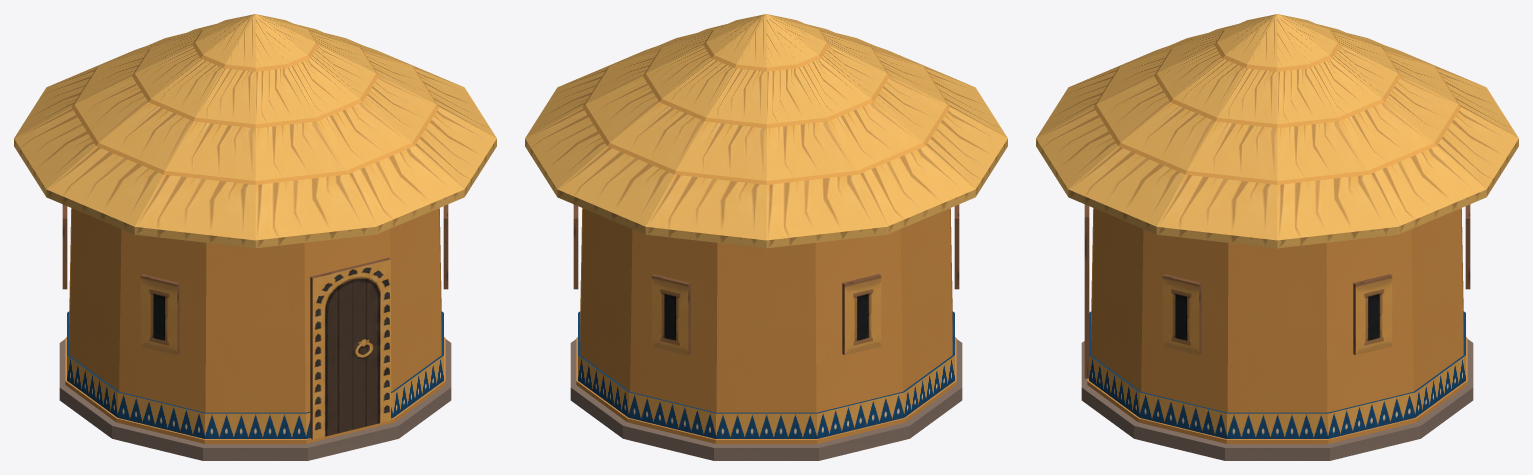
File: rc_village_hut_round_1f.glb
3 views of the same model, side by side, from view 1: azimuth 30°, elevation 25°; view 2: azimuth 150°, elevation 25°; view 3: azimuth 270°, elevation 25° (orthographic).
Visible parts, largest first — view 1: SM_RC_MudHut_Round_1F; view 2: SM_RC_MudHut_Round_1F; view 3: SM_RC_MudHut_Round_1F.
Boxes of the visible parts, left/top/right/bottom form: SM_RC_MudHut_Round_1F: left=14, top=14, right=496, bottom=460; SM_RC_MudHut_Round_1F: left=525, top=14, right=1007, bottom=460; SM_RC_MudHut_Round_1F: left=1036, top=14, right=1518, bottom=460.
Bounding box in the file's own units: 7.74 × 6.44 × 7.74.
1 material, 1 textured.
